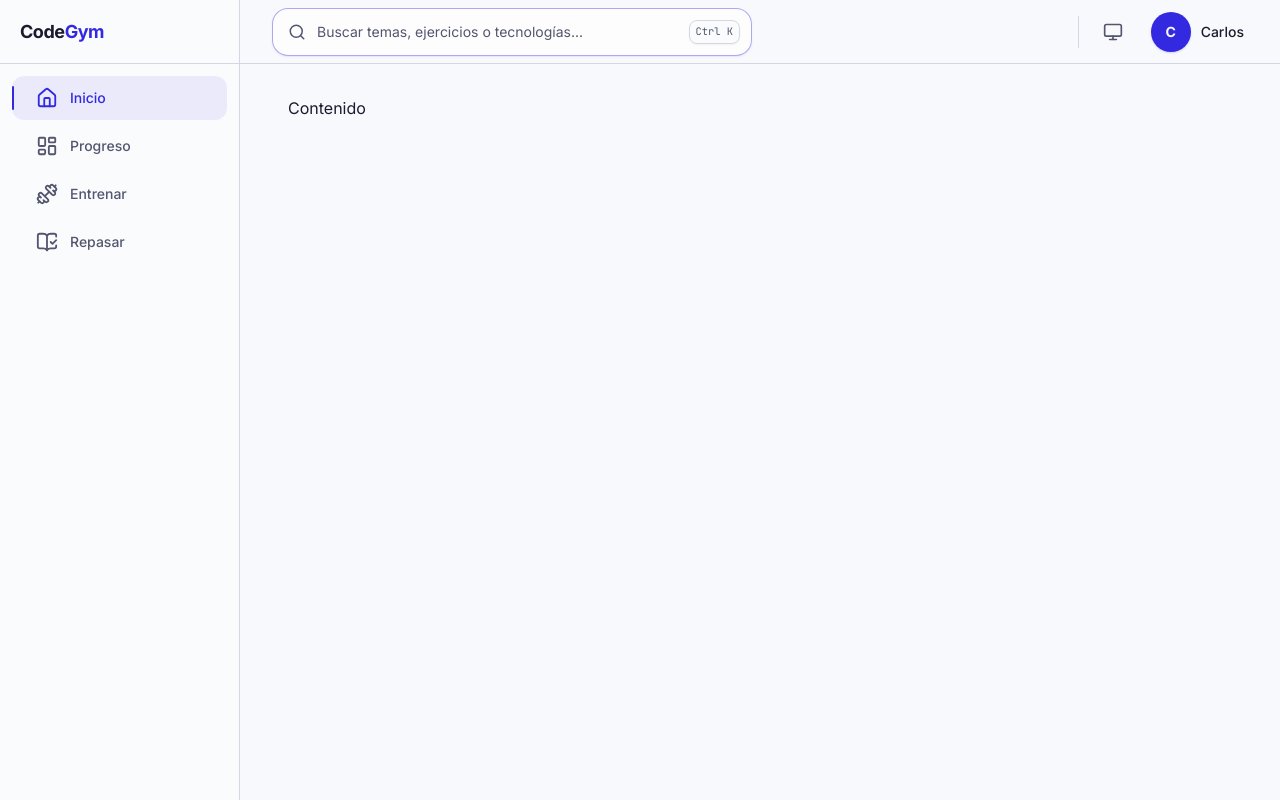
Test: AppLayout responsive móvil (T078) › mueve el foco al contenido principal después de navegar
Click the link "Progreso" at (83, 146), box [36,135,131,157]
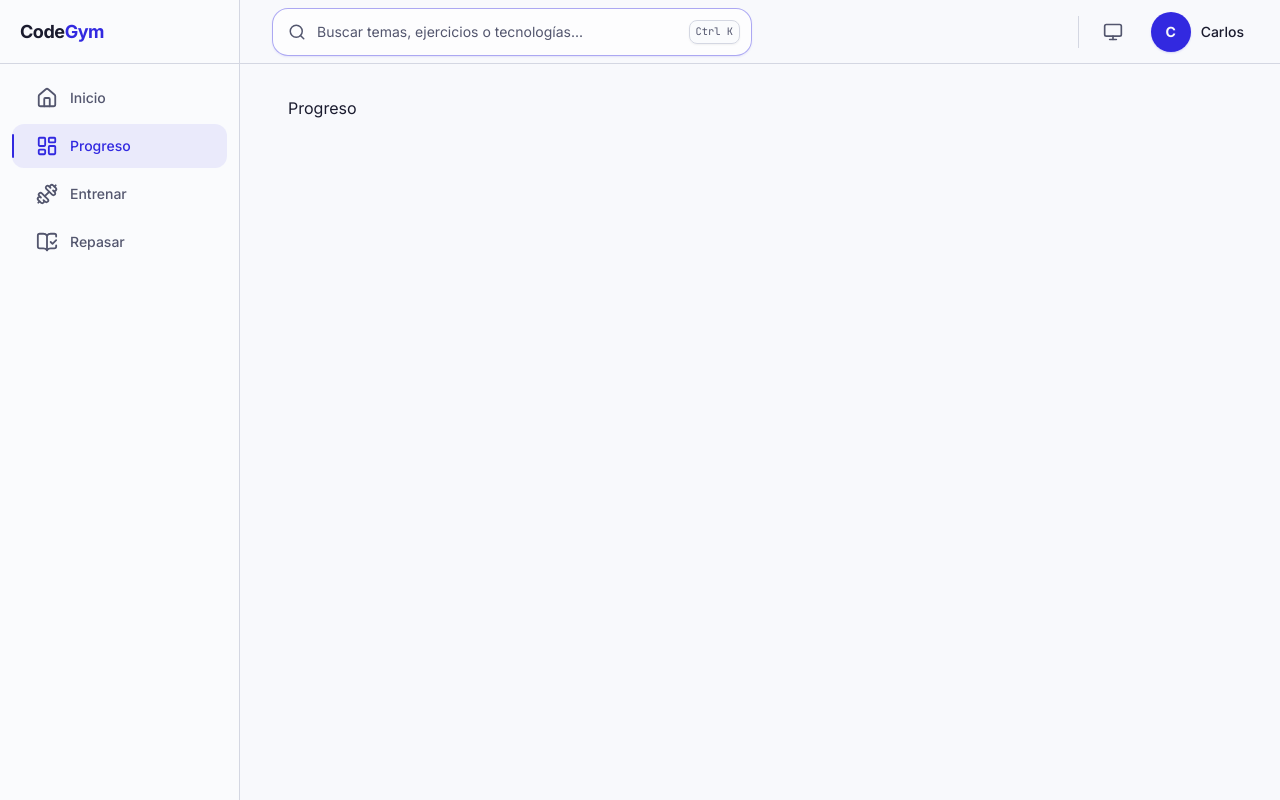
Result: the heading "Progreso" is shown at [288,98,356,118]
